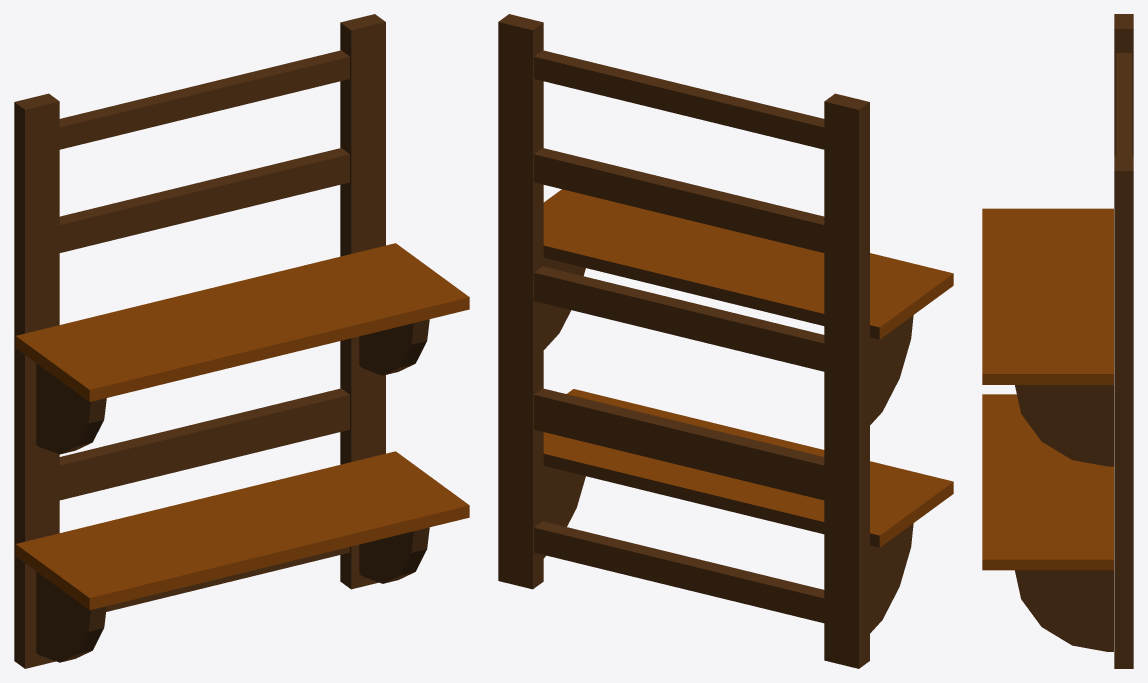
File: CPI441_Fur_WallCubbord_V2.fbx
3 renders of one model, left to right at view 1: azimuth 30°, elevation 25°; view 2: azimuth 150°, elevation 25°; view 3: azimuth 270°, elevation 25°, orthographic. The views are drawn at different scales.
Visible parts, largest first — view 1: Cube; view 2: Cube; view 3: Cube.
Boxes of the visible parts, x1,y1,x2,y2 form: Cube: (14,14,469,668); Cube: (498,14,953,668); Cube: (982,14,1133,668).
Size of the model in its own units: 782 by 1099 by 303.
